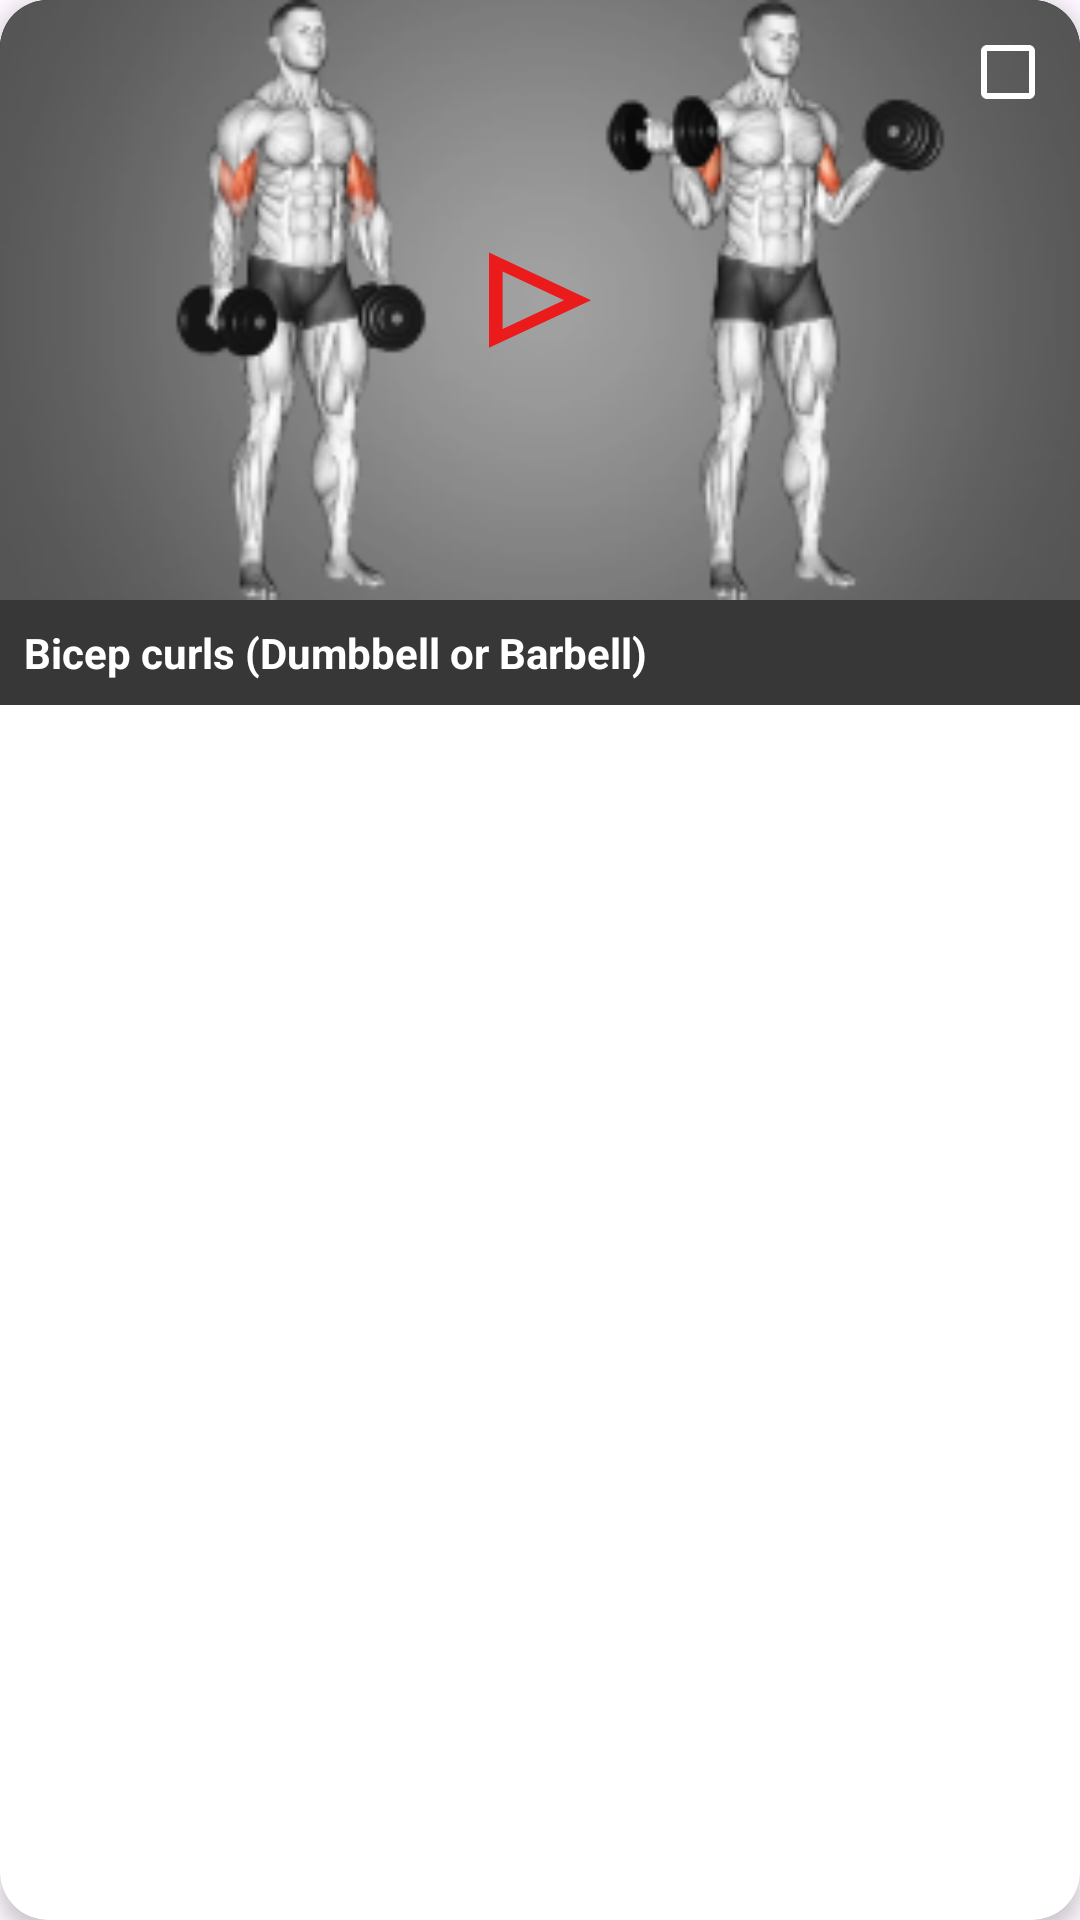

Where icons sit on this 1080w x 1920h app screen, as [x1,y1,x2,y2]:
Play button: [489,252,591,348]
